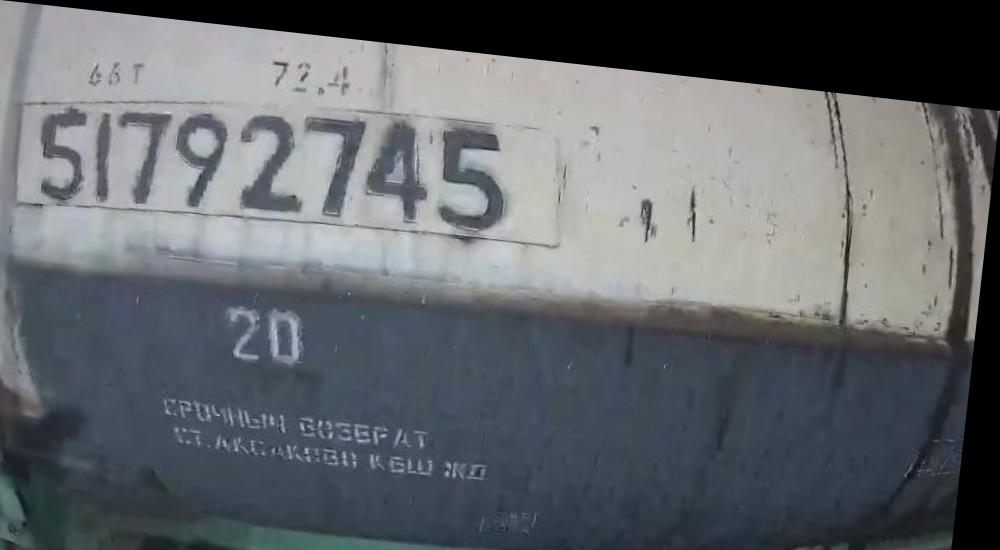Wagon-number: (31, 70, 519, 242)
